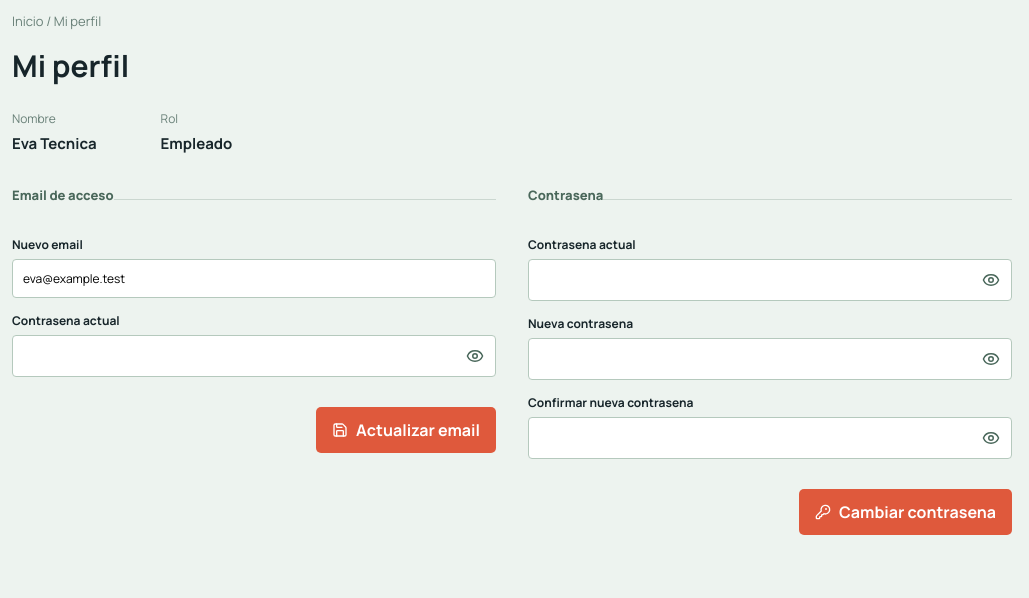
Scenario: perfil propio › comprueba confirmacion y longitud de la nueva contrasena
This screenshot has width=1029, height=598.
In the password field named "Contrasena actual": (750, 280) [529,262,971,299], type "current-password"
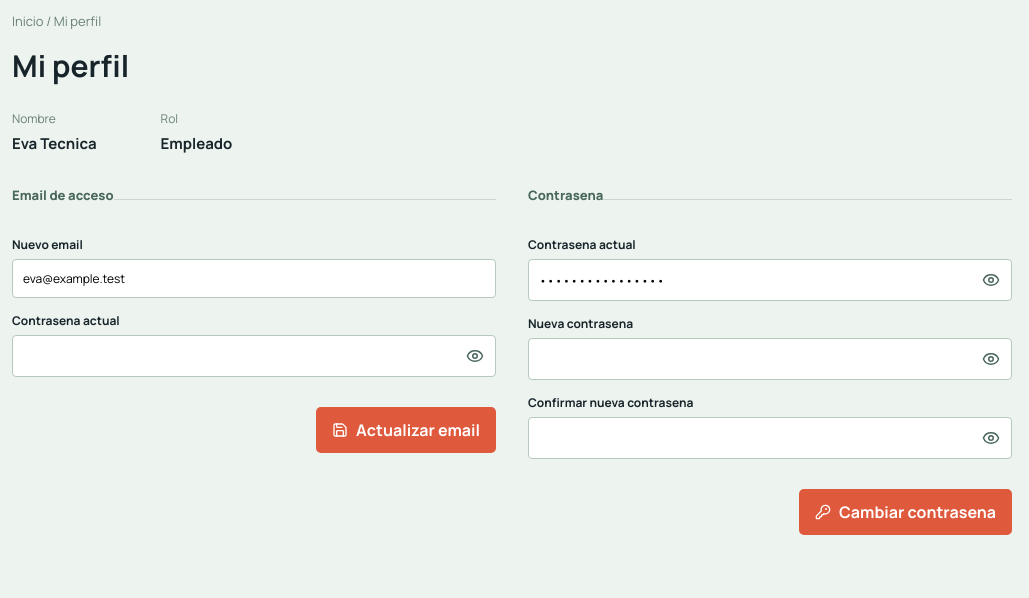
In the password field named "Nueva contrasena": (750, 359) [529,341,971,378], type "new-secure-password"
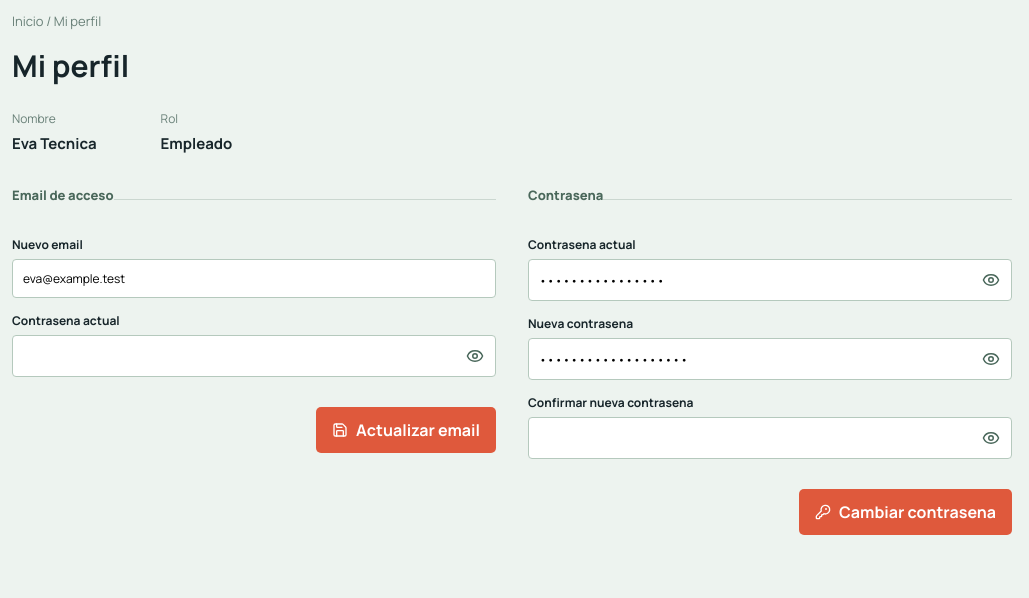
In the password field named "Confirmar nueva contrasena": (750, 438) [529,420,971,457], type "different-password"
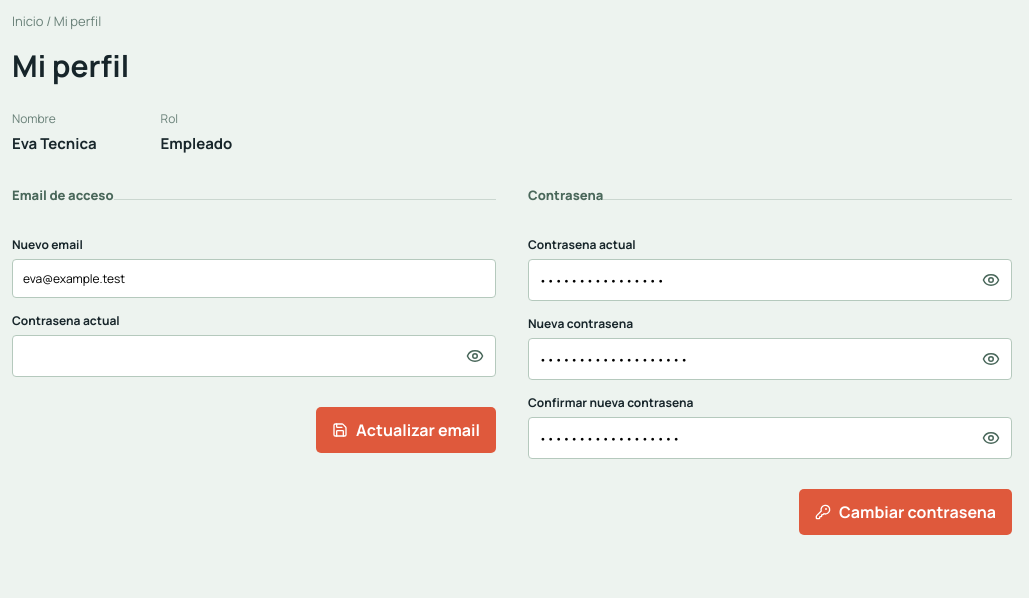
Submit the form that starts with "Contrasena", box [528,186,1012,549]
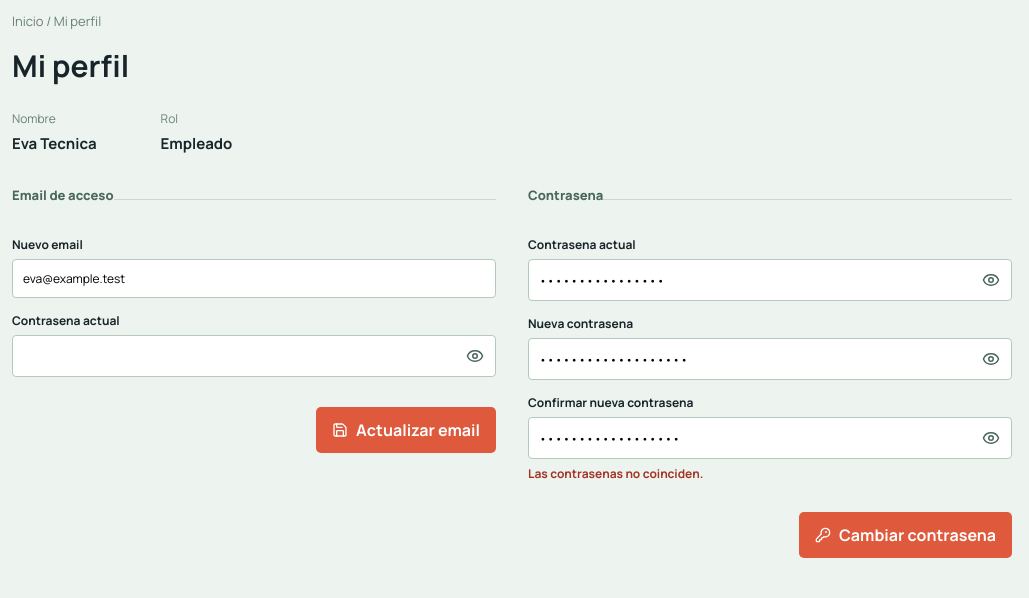
expect the text with id "confirmation-error" shows "no coinciden": met, box [528,465,703,482]
In the password field named "Nueva contrasena": (750, 359) [529,341,971,378], type "short"
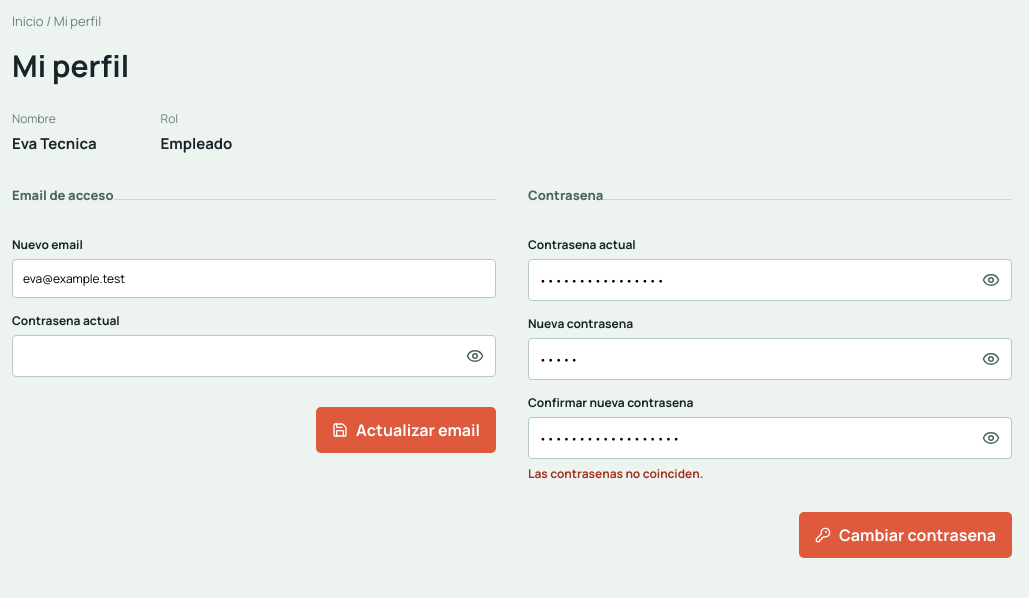
Submit the form that starts with "Contrasena", box [528,186,1012,572]
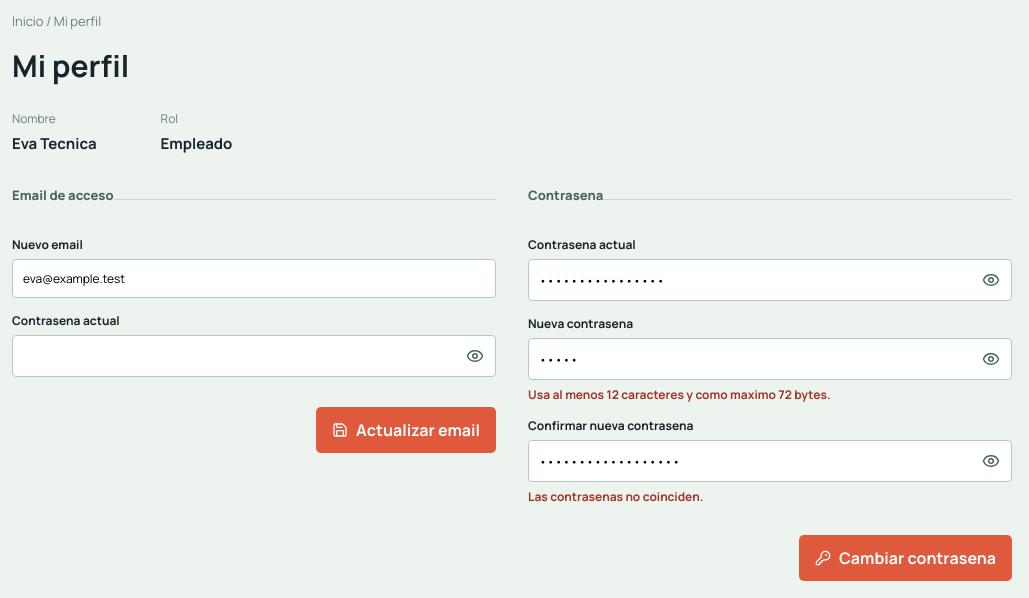
expect the text with id "newPassword-error" shows "12 caracteres": met, box [528,386,831,403]
